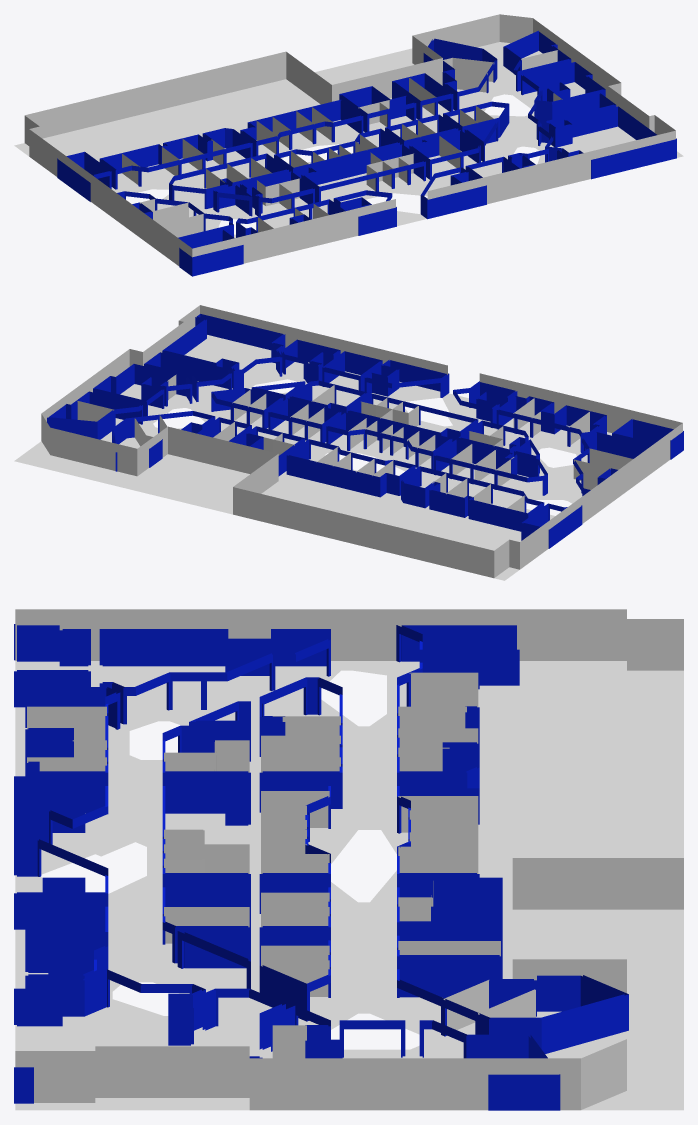
Rendered from DSFDMap_2f.fbx.
3 views of the same model, one above another, from view 1: azimuth 30°, elevation 25°; view 2: azimuth 150°, elevation 25°; view 3: azimuth 270°, elevation 25° (orthographic). The views are drawn at different scales.
Visible parts, largest first — view 1: 2f_frame, 2f_outLine, 2fFloor, 2f_wall; view 2: 2f_frame, 2f_outLine, 2fFloor, 2f_wall; view 3: 2fFloor, 2f_frame, 2f_outLine, 2f_wall.
Part boxes in pixels (x1,y1,x2,y2): 2f_frame: (57, 30, 676, 276); 2f_outLine: (24, 14, 675, 265); 2fFloor: (14, 42, 683, 237); 2f_wall: (122, 50, 562, 237); 2f_frame: (47, 314, 683, 548); 2f_outLine: (41, 305, 682, 578); 2fFloor: (14, 335, 611, 580); 2f_wall: (77, 374, 632, 512); 2fFloor: (15, 661, 683, 1110); 2f_frame: (14, 624, 628, 1110); 2f_outLine: (15, 609, 683, 1110); 2f_wall: (27, 672, 535, 1058).
Size of the model in its own units: 18650 by 1000 by 11725.
